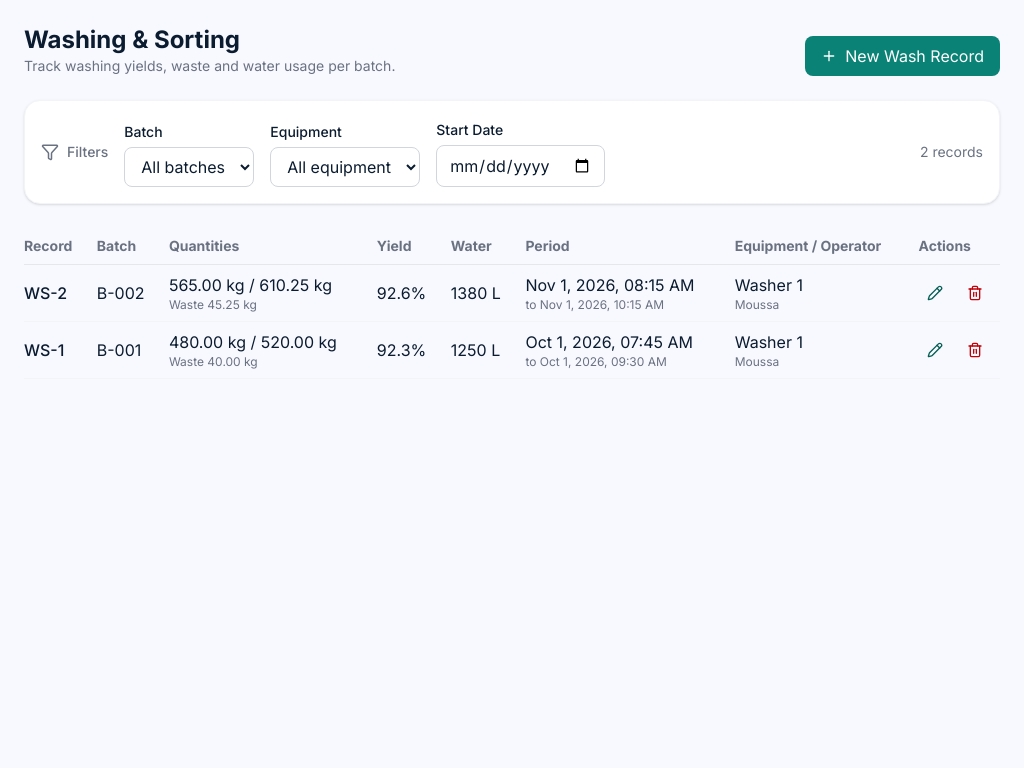
Scenario: WashSortRecordList › keeps the delete dialog open with the server error when the deletion fails
Expected: the text "WS-1" is shown, [24,322,97,378]
Click the button named "Delete" in the row of "WS-1": (974, 350) [958,334,990,366]
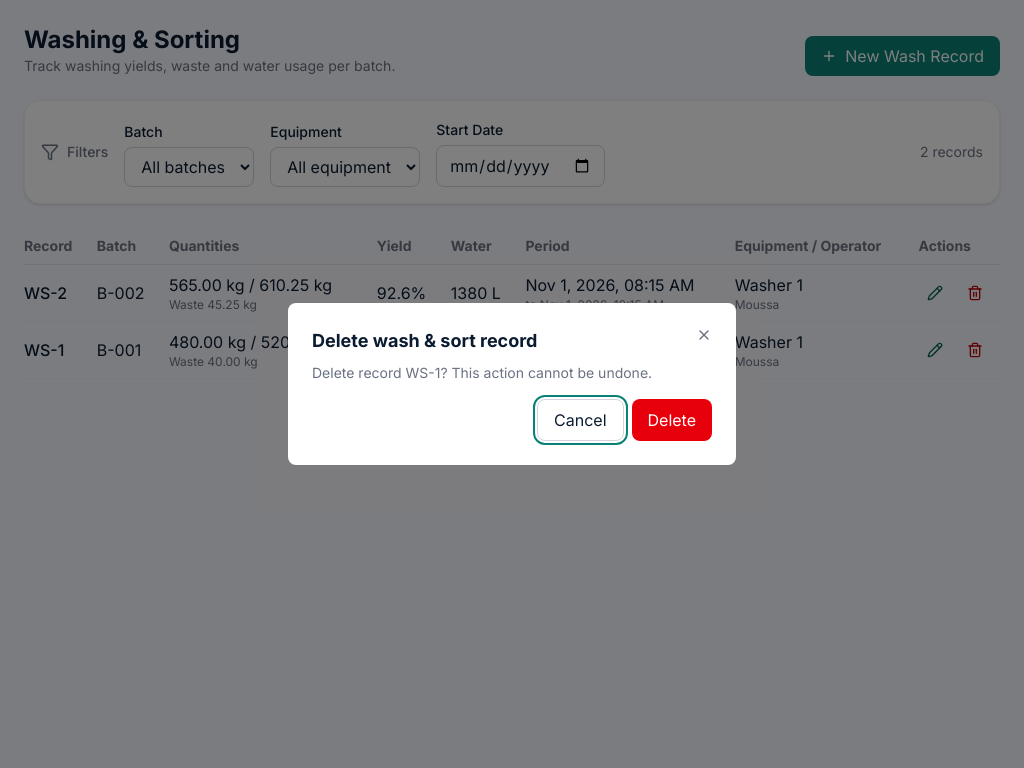
Click the button "Delete": (672, 420) [632,399,712,441]
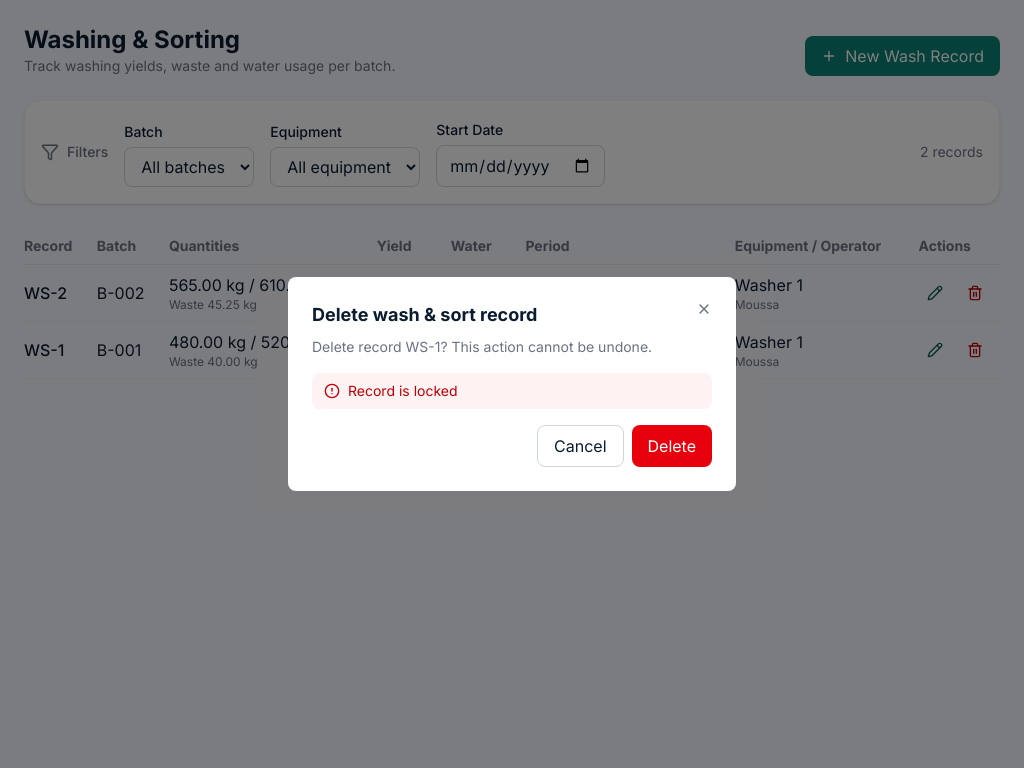
Expected: the message reads "Record is locked", [348,382,458,399]
